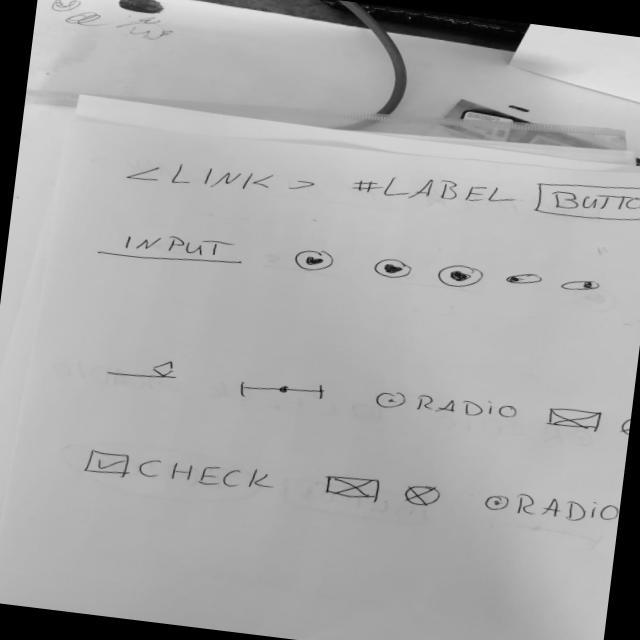button: (530, 171, 640, 227)
checkbox: (80, 447, 279, 498)
icon-button: (434, 259, 488, 293), (291, 246, 339, 276), (367, 255, 418, 283)
image: (322, 473, 384, 503), (544, 404, 606, 433), (403, 484, 444, 510)
input: (94, 223, 248, 274)
label: (347, 167, 523, 216)
link: (120, 155, 319, 204)
number-input: (105, 353, 184, 386)
radio: (375, 386, 521, 427), (483, 487, 621, 529)
slider: (231, 373, 332, 408)
toggle: (556, 277, 605, 296), (503, 269, 548, 289)
